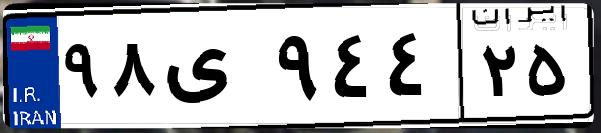2: (475, 38, 525, 113)
4: (385, 28, 445, 110), (330, 28, 385, 110)
5: (525, 38, 570, 115)
8: (110, 28, 158, 98)
9: (270, 28, 330, 110), (57, 26, 110, 100)
ی: (158, 20, 270, 120)
